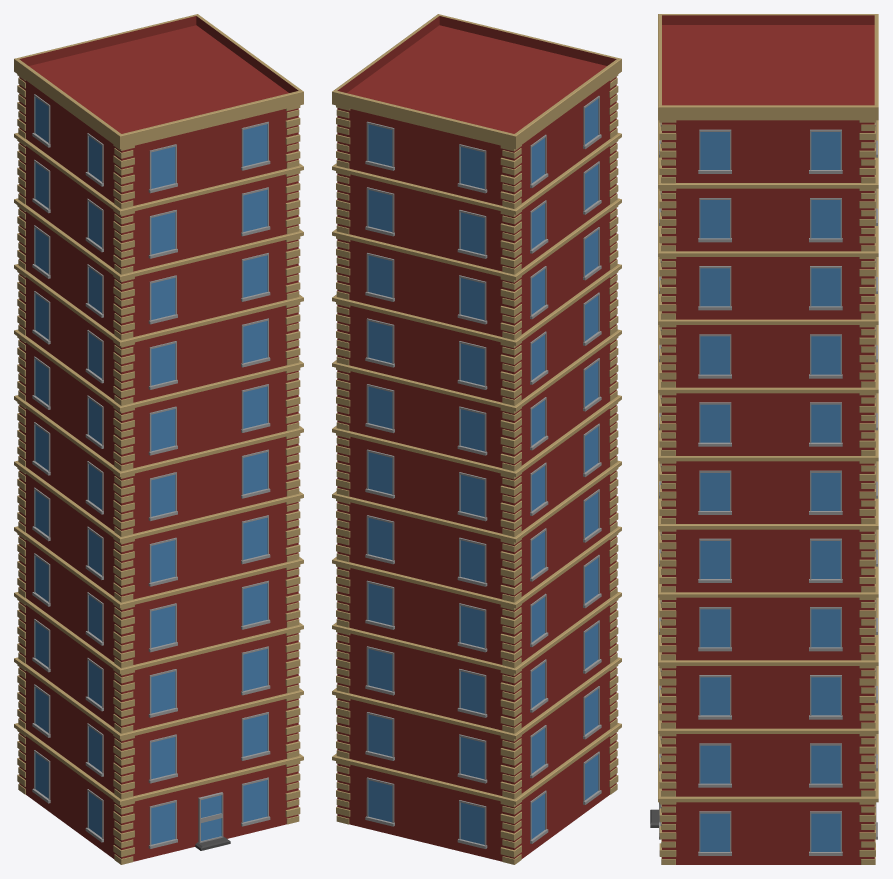
Rendered from GebouwRoodHoogZonderTrap.fbx.
The picture shows the model from 3 angles, left to right: view 1: azimuth 30°, elevation 25°; view 2: azimuth 150°, elevation 25°; view 3: azimuth 270°, elevation 25°; orthographic projection. The views are drawn at different scales.
Parts seen in each view (by area): view 1: gebouwRoodHoogZonderTrap; view 2: gebouwRoodHoogZonderTrap; view 3: gebouwRoodHoogZonderTrap.
Part boxes in pixels (x1,y1,x2,y2): gebouwRoodHoogZonderTrap: (14, 14, 303, 864); gebouwRoodHoogZonderTrap: (332, 14, 621, 864); gebouwRoodHoogZonderTrap: (650, 14, 878, 864).
Bounding box in the file's own units: 622 × 2364 × 644.
